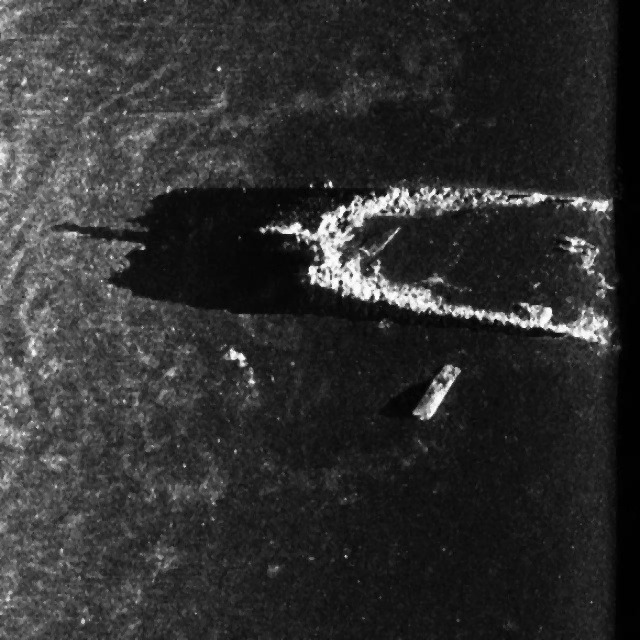Ship: (254, 148, 628, 357)
